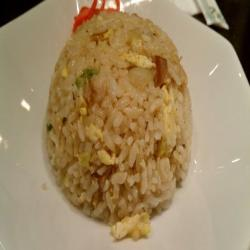rice: (44, 17, 201, 227)
